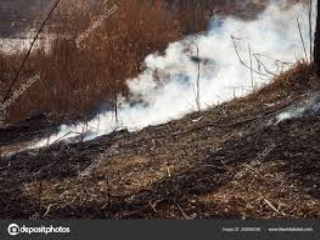smoke: (17, 61, 255, 155)
